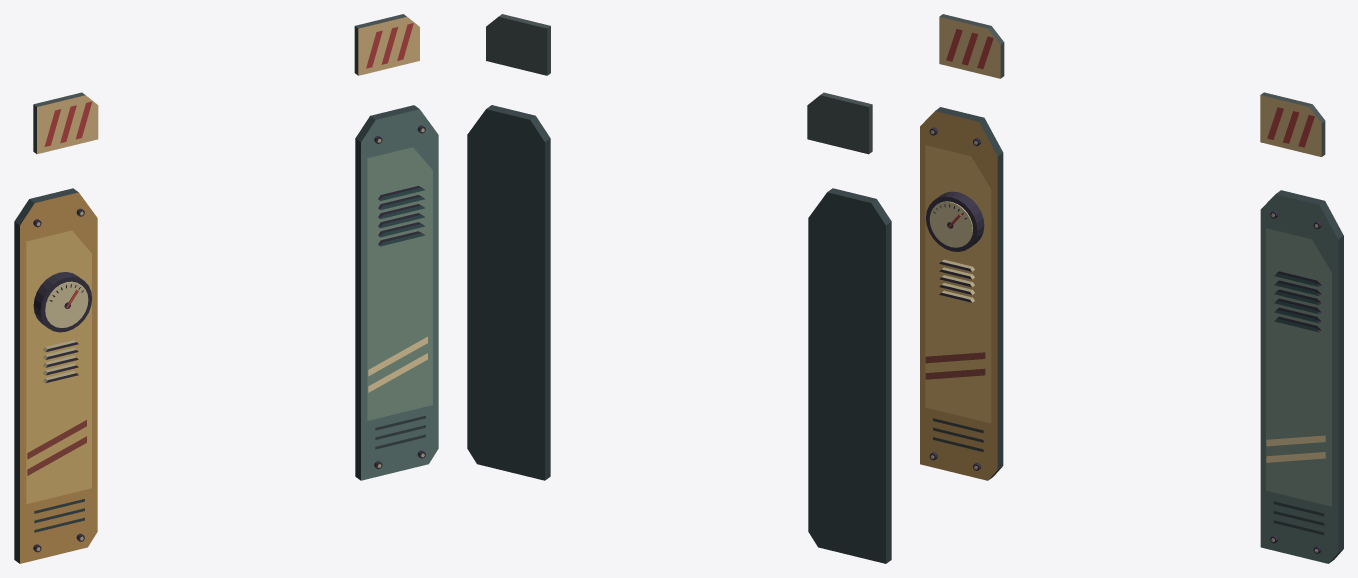
The model's file is CastPorticoPlates.gltf.
3 renders of one model, left to right at view 1: azimuth 30°, elevation 25°; view 2: azimuth 150°, elevation 25°; view 3: azimuth 330°, elevation 25°, orthographic.
Visible parts, largest first — view 1: CastPorticoPlates; view 2: CastPorticoPlates; view 3: CastPorticoPlates.
Part boxes in pixels (left/top/right/bottom): CastPorticoPlates: left=14, top=14, right=438, bottom=563; CastPorticoPlates: left=467, top=14, right=891, bottom=563; CastPorticoPlates: left=920, top=14, right=1343, bottom=563.
Bounding box in the file's own units: 2.32 × 2.39 × 0.145.
